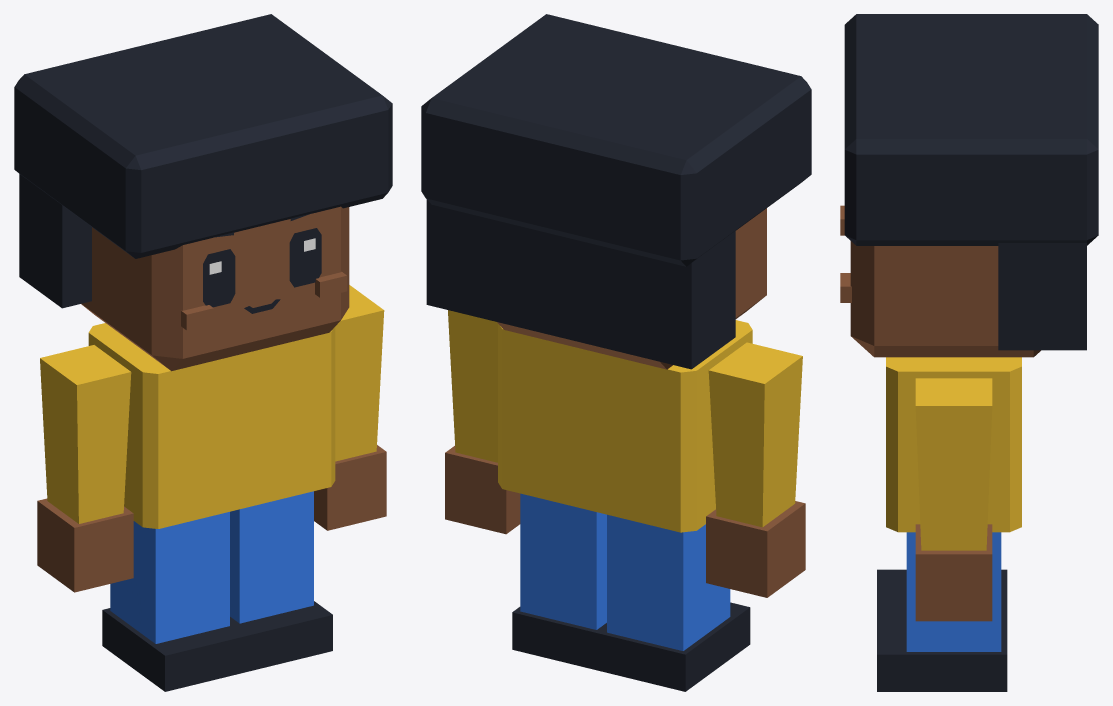
File: townsperson-bighair.glb
3 views of the same model, side by side, from view 1: azimuth 30°, elevation 25°; view 2: azimuth 150°, elevation 25°; view 3: azimuth 270°, elevation 25° (orthographic). The views are drawn at different scales.
Visible parts, largest first — view 1: hair, body, head, arm_R, leg_R, leg_L, arm_L, shoe_R, hand_R, face, hand_L, shoe_L; view 2: hair, body, arm_R, leg_R, leg_L, hand_R, arm_L, shoe_R, hand_L, head, shoe_L; view 3: hair, head, body, arm_L, shoe_L, hand_L, leg_L, shoe_R, face.
Boxes of the visible parts, box(x1,y1,x2,y2) form: hair: box(14, 14, 392, 308); body: box(88, 323, 335, 528); head: box(81, 206, 349, 371); arm_R: box(40, 345, 131, 523); leg_R: box(110, 512, 229, 643); leg_L: box(230, 491, 313, 623); arm_L: box(335, 285, 384, 461); shoe_R: box(102, 608, 248, 691); hand_R: box(37, 498, 133, 592); face: box(181, 213, 347, 330); hand_L: box(314, 445, 386, 530); shoe_L: box(230, 601, 332, 671); hair: box(421, 14, 811, 369); body: box(498, 320, 752, 532); arm_R: box(708, 342, 802, 527); leg_R: box(607, 514, 730, 650); leg_L: box(520, 493, 606, 629); hand_R: box(706, 501, 805, 597); arm_L: box(448, 310, 497, 462); shoe_R: box(599, 602, 750, 691); hand_L: box(445, 446, 520, 534); head: box(497, 208, 766, 369); shoe_L: box(512, 607, 606, 670); hair: box(844, 14, 1098, 350); head: box(850, 241, 1040, 357); body: box(886, 357, 1021, 532); arm_L: box(915, 378, 992, 550); shoe_L: box(877, 612, 1007, 691); hand_L: box(915, 524, 992, 621); leg_L: box(906, 532, 1001, 651); shoe_R: box(877, 569, 1007, 611); face: box(840, 205, 851, 302).
Size of the model in its own units: 1.26 by 2.14 by 0.875.
